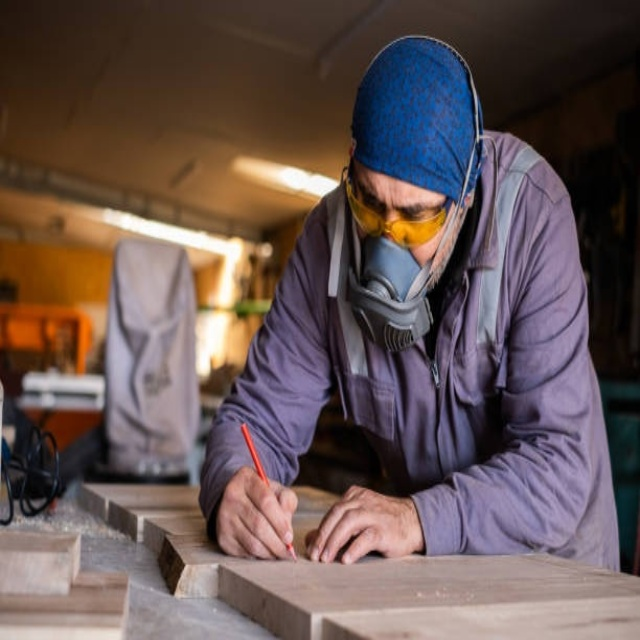Gafas: (343, 162, 451, 249)
Mascara: (349, 233, 435, 353)
Sin_guantes: (303, 483, 418, 563), (214, 464, 301, 560)
